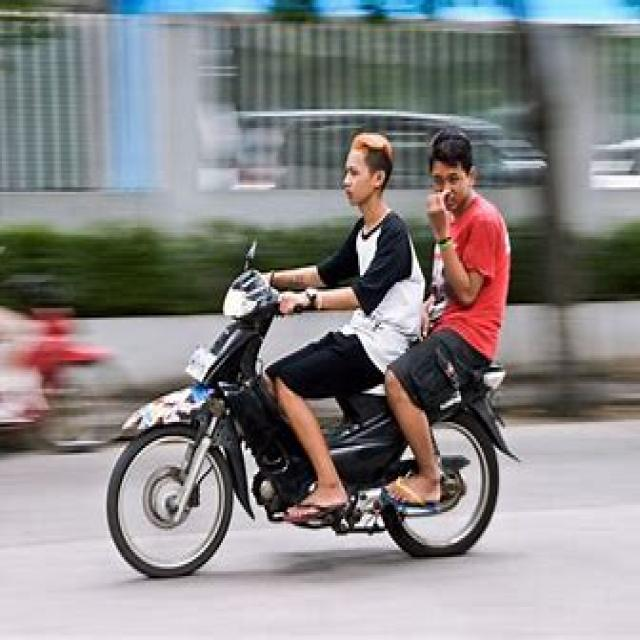Without Helmet: (336, 130, 399, 210), (424, 129, 483, 214)
